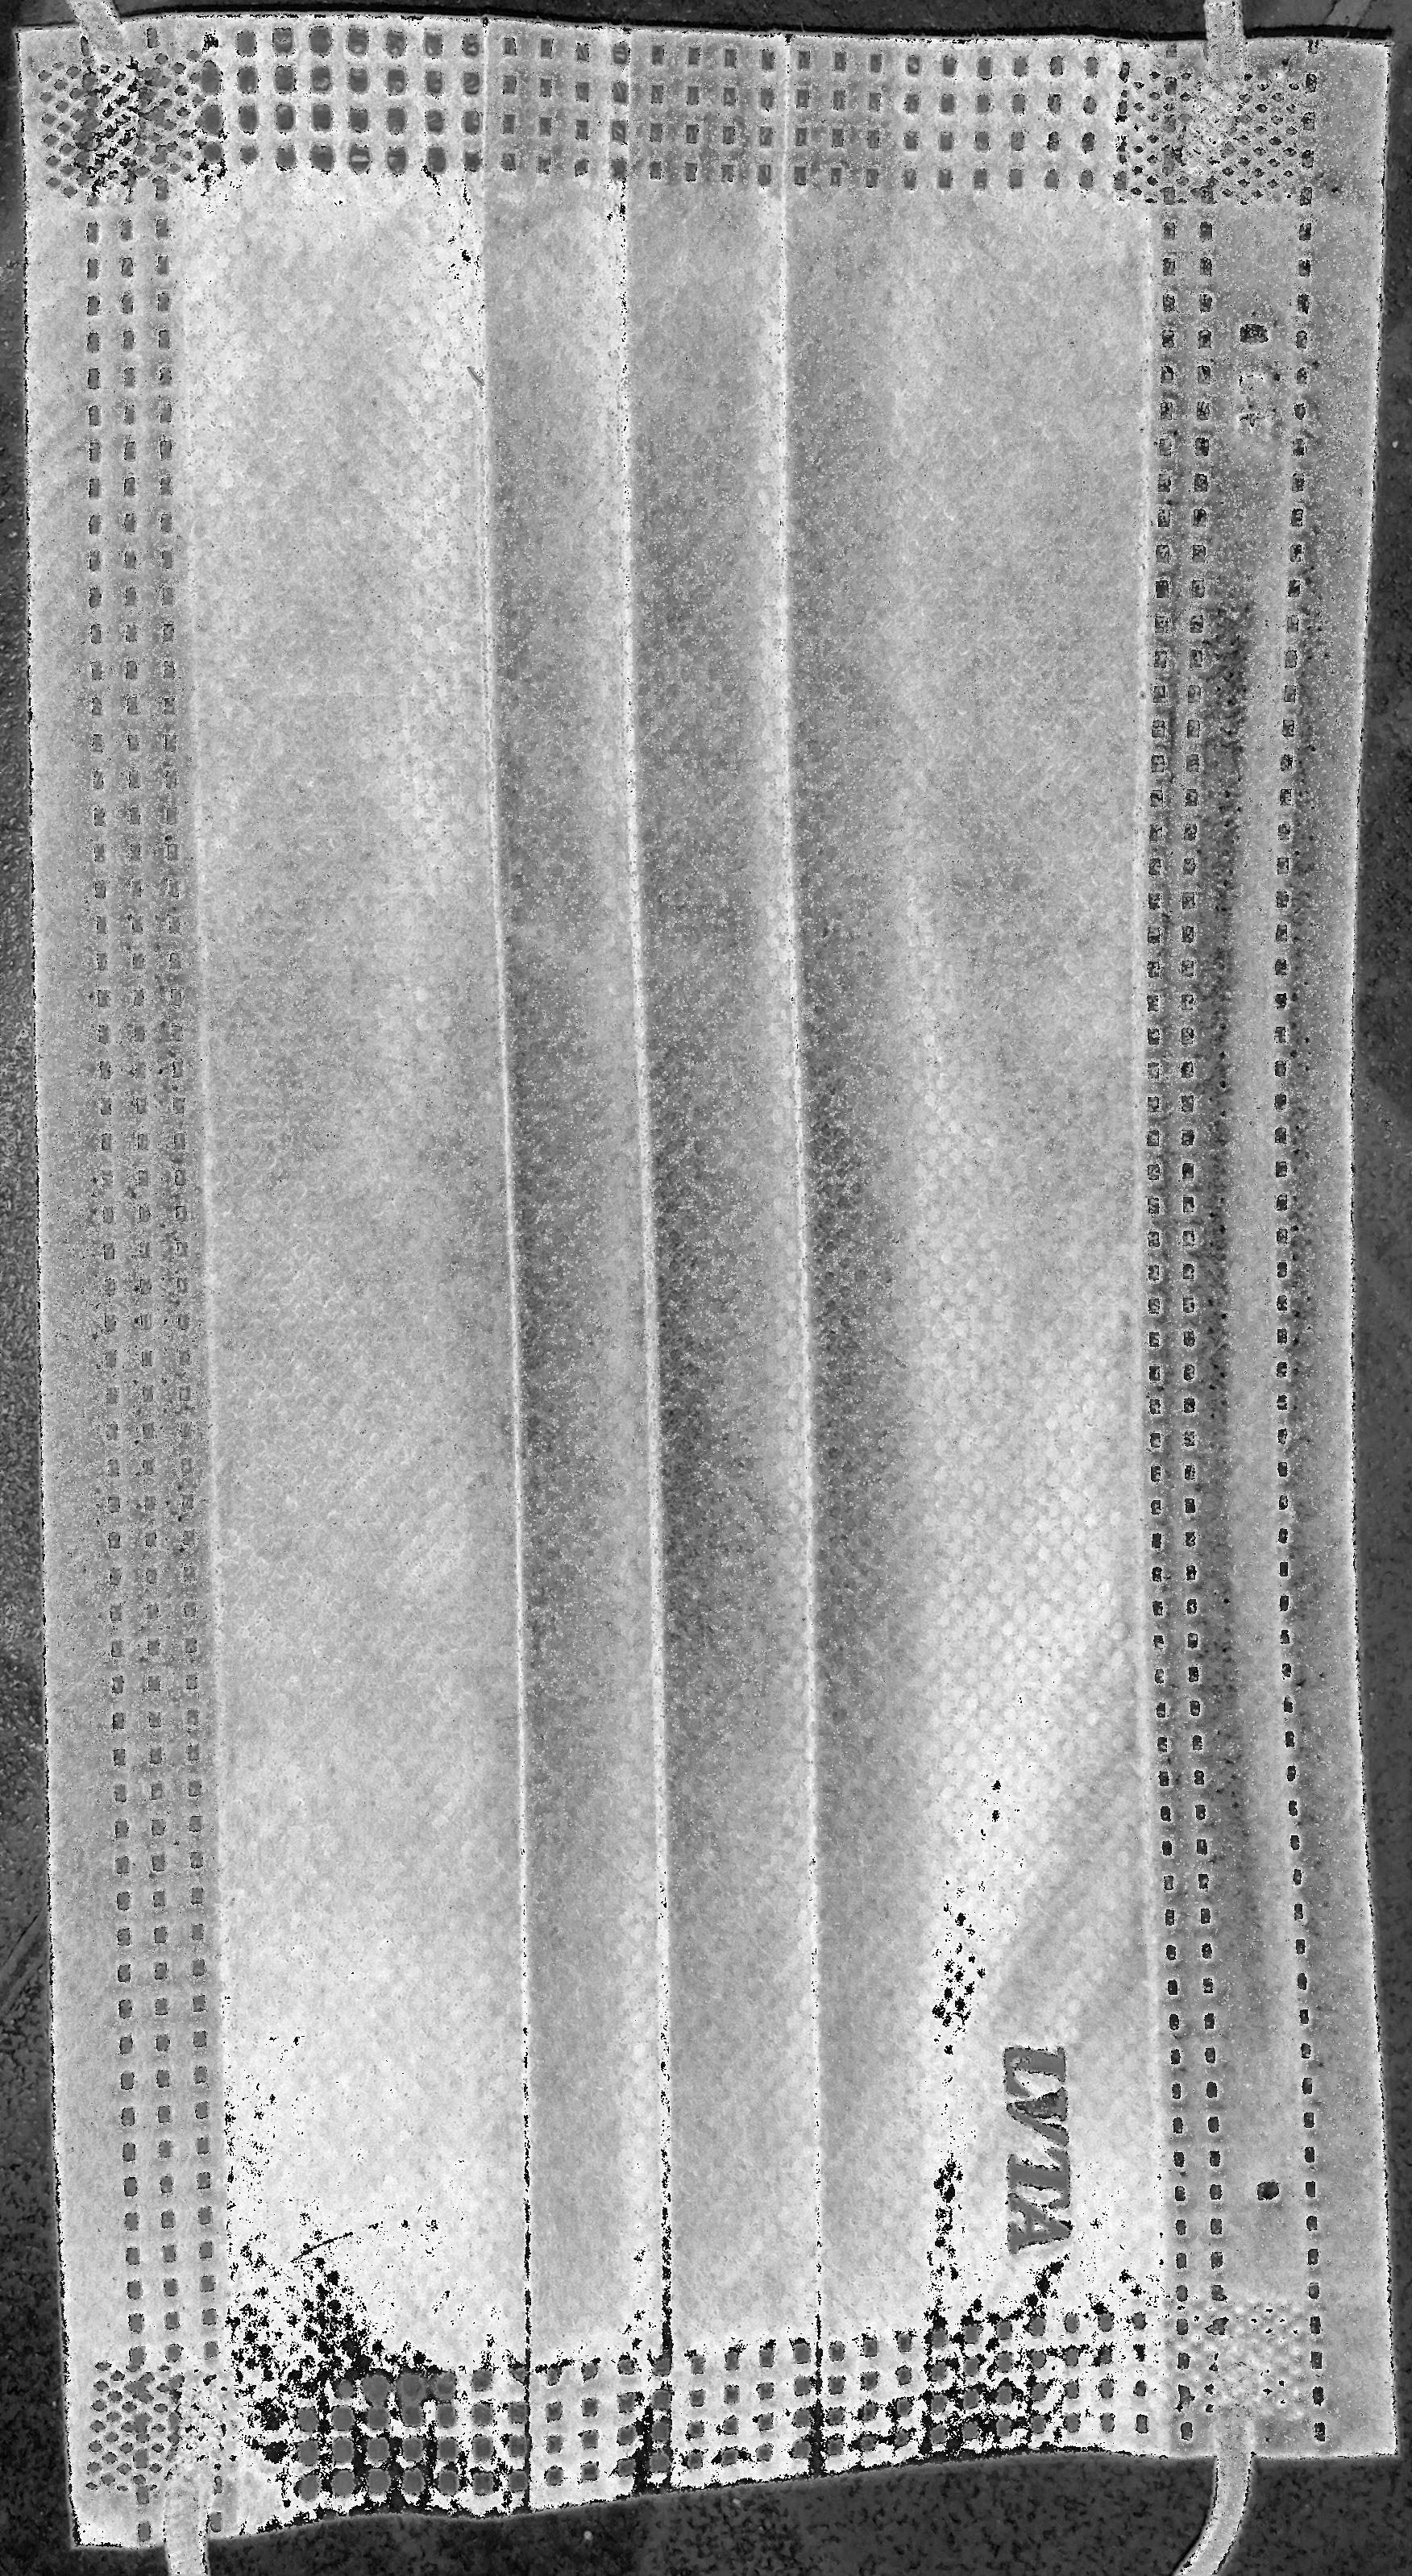High GSM: (188, 216, 1139, 2307)
